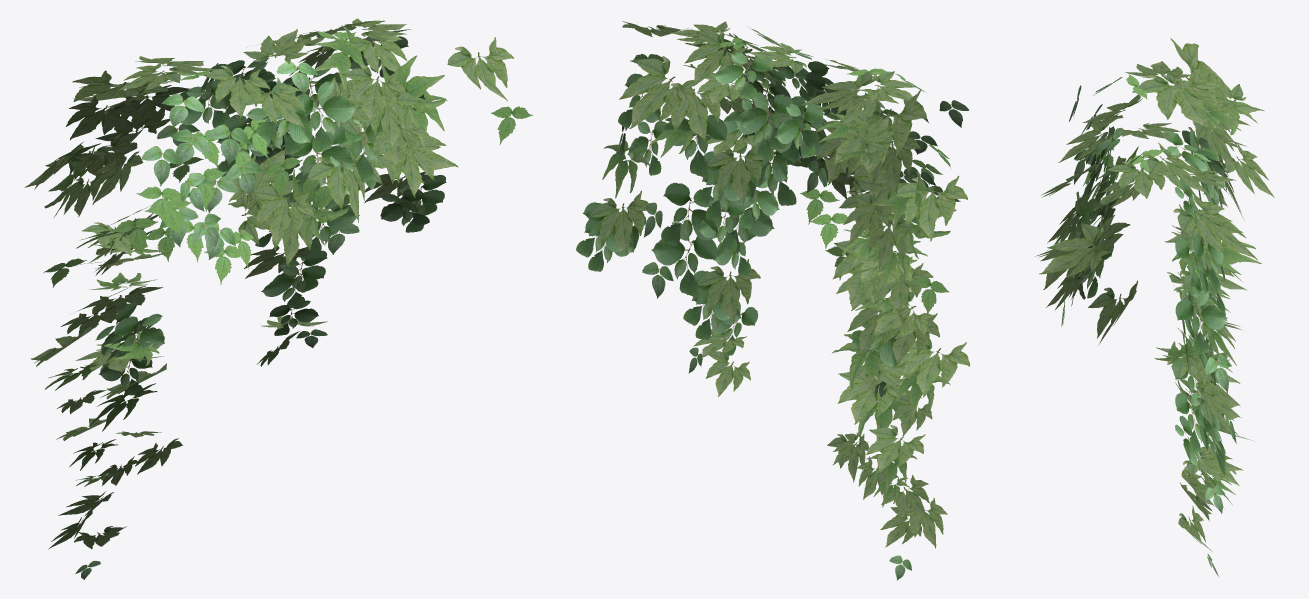
Rendered from Ivy02_Lod1.FBX.
3 renders of one model, left to right at view 1: azimuth 30°, elevation 25°; view 2: azimuth 150°, elevation 25°; view 3: azimuth 270°, elevation 25°, orthographic. The views are drawn at different scales.
Parts seen in each view (by area): view 1: Ivy02_Lod1; view 2: Ivy02_Lod1; view 3: Ivy02_Lod1.
Part boxes in pixels (x1,y1,x2,y2): Ivy02_Lod1: (24, 18, 532, 579); Ivy02_Lod1: (576, 21, 970, 580); Ivy02_Lod1: (1035, 38, 1274, 576).
Bounding box in the file's own units: 132 × 152 × 70.08.
Materials: 1 (1 with a texture image).
